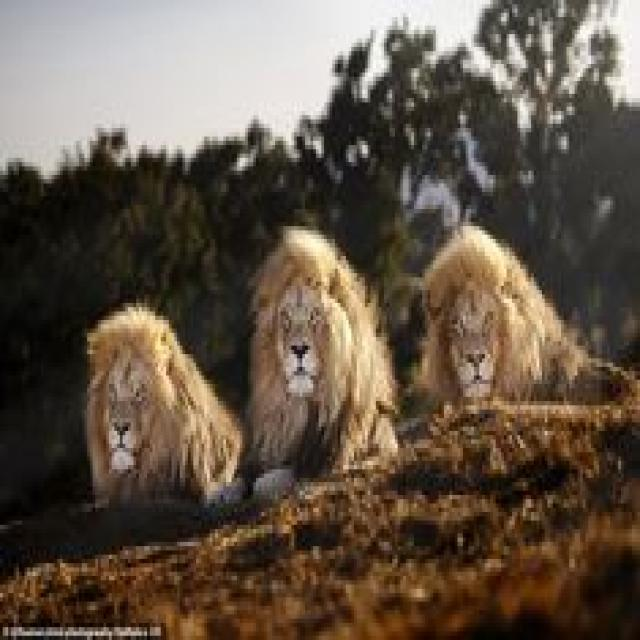lions: (427, 217, 633, 502), (232, 237, 419, 520), (40, 279, 228, 529)
